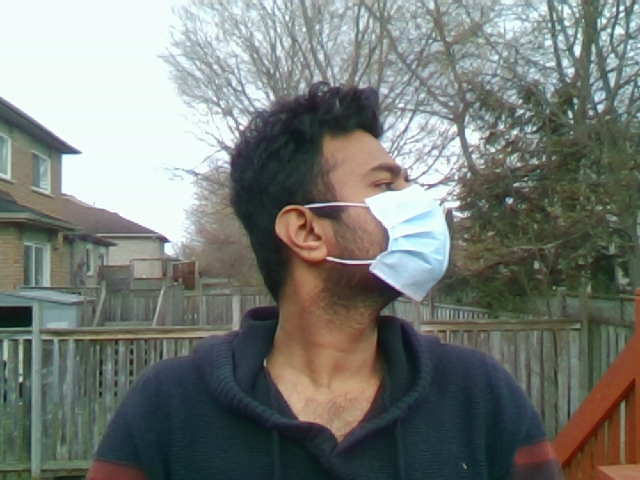Mask: (265, 183, 477, 315)
